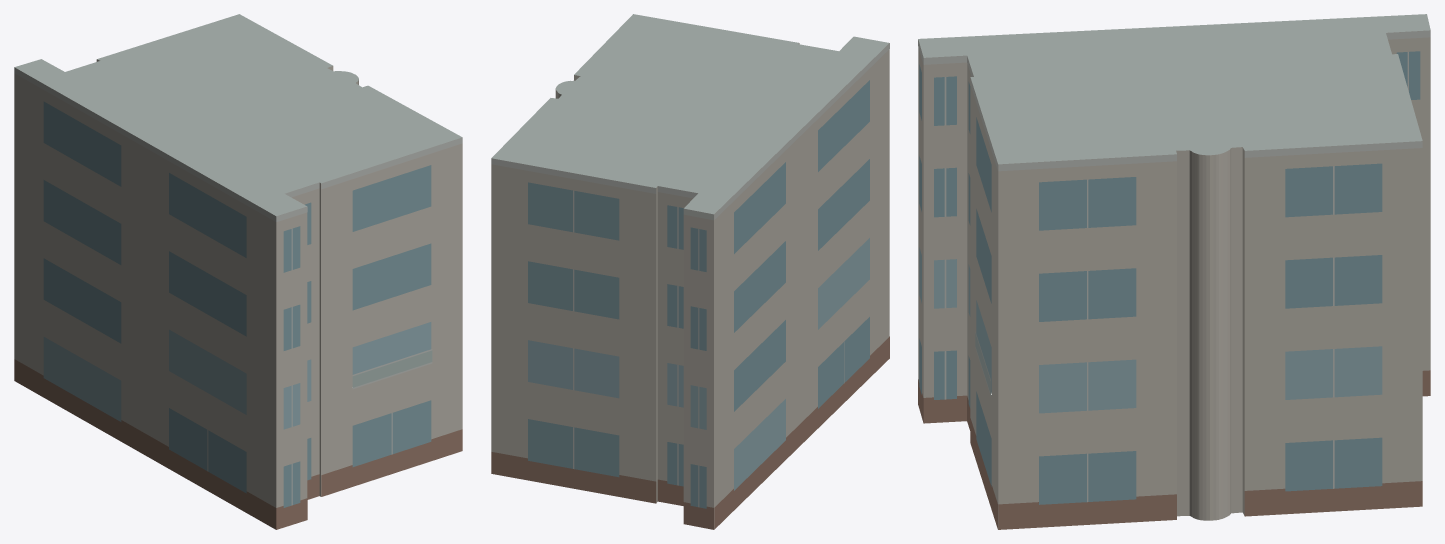
Rendered from survey-upis-32523914.glb.
The picture shows the model from 3 angles, left to right: view 1: azimuth 30°, elevation 25°; view 2: azimuth 150°, elevation 25°; view 3: azimuth 270°, elevation 25°; orthographic projection. The views are drawn at different scales.
Visible parts, largest first — view 1: survey-upis-32523914.tmp; view 2: survey-upis-32523914.tmp; view 3: survey-upis-32523914.tmp.
Part boxes in pixels (box(x1,y1,x2,y2)): survey-upis-32523914.tmp: box(14, 14, 462, 529); survey-upis-32523914.tmp: box(491, 14, 889, 529); survey-upis-32523914.tmp: box(918, 14, 1430, 529).
Bounding box in the file's own units: 11.3 × 12.8 × 16.28.
